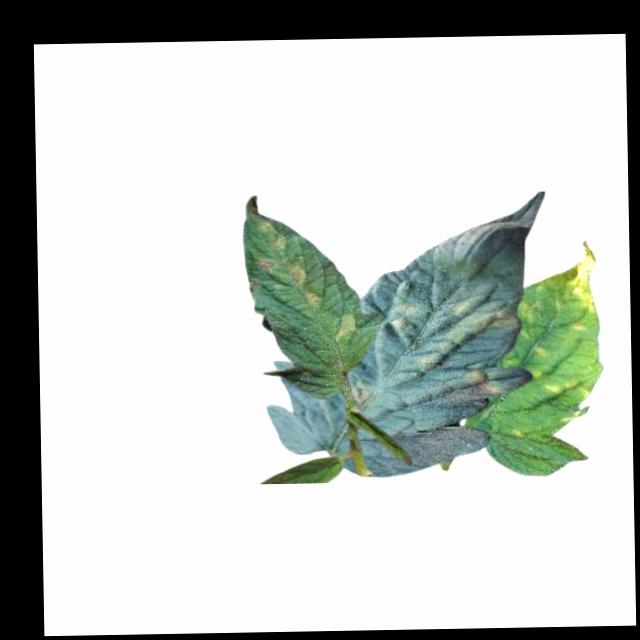Leaf_Mold: (417, 293, 522, 368), (544, 238, 602, 316), (433, 367, 506, 409), (533, 363, 596, 400), (290, 259, 325, 308), (387, 295, 417, 334), (332, 307, 361, 343), (348, 382, 381, 411)
